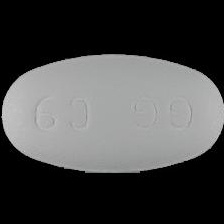21695-558: (0, 0, 224, 224)
